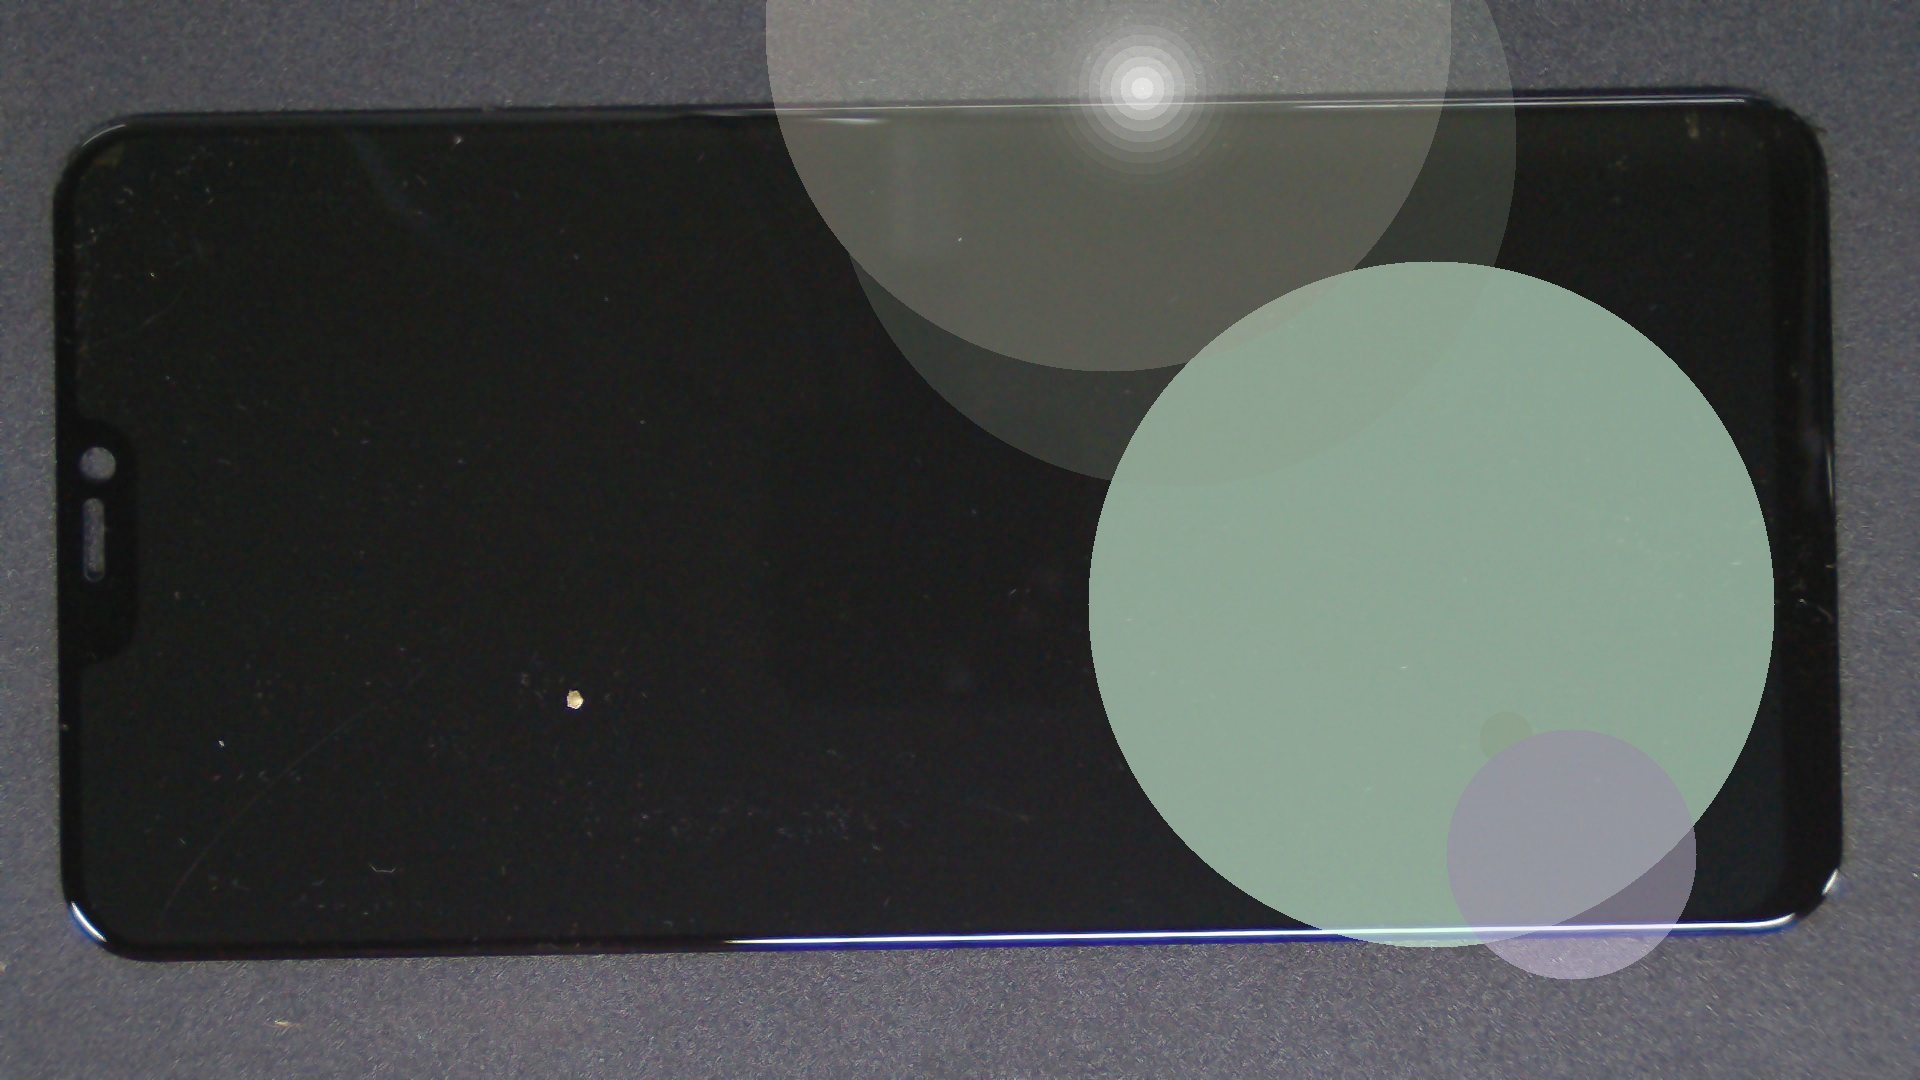oil: (285, 343, 853, 1031)
